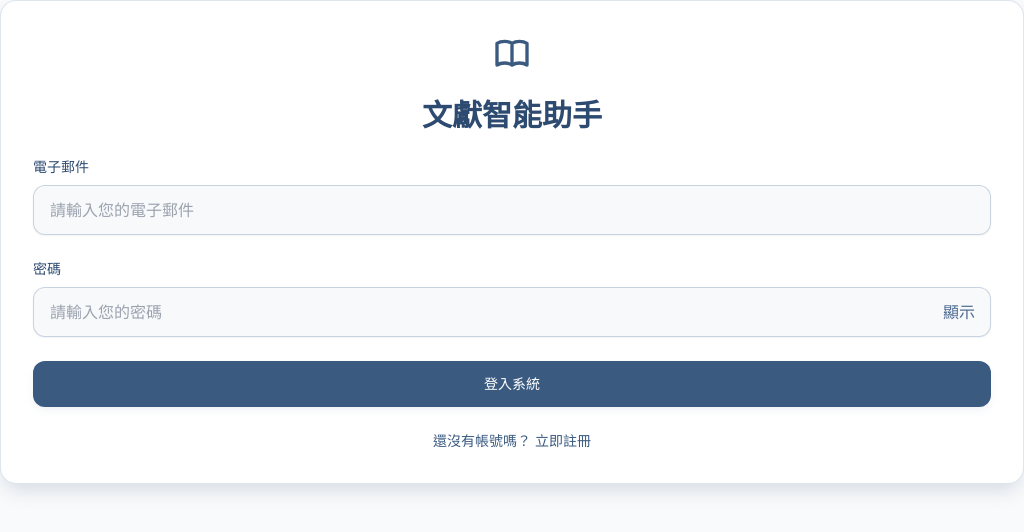
Test: LoginForm測試 › 應該在電子郵件格式無效時顯示錯誤
Note: 輸入無效的電子郵件
Step 1. Type "invalid-email" into the field with test id "login-email" → (512, 210), box 33,185 -> 991,235
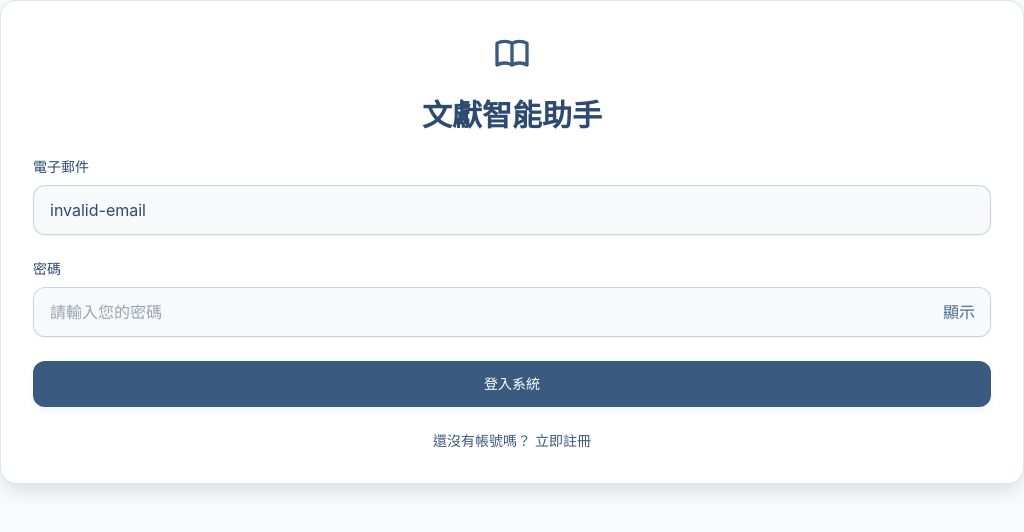
Step 2. Leave the field with test id "login-email", box 33,185 -> 991,235
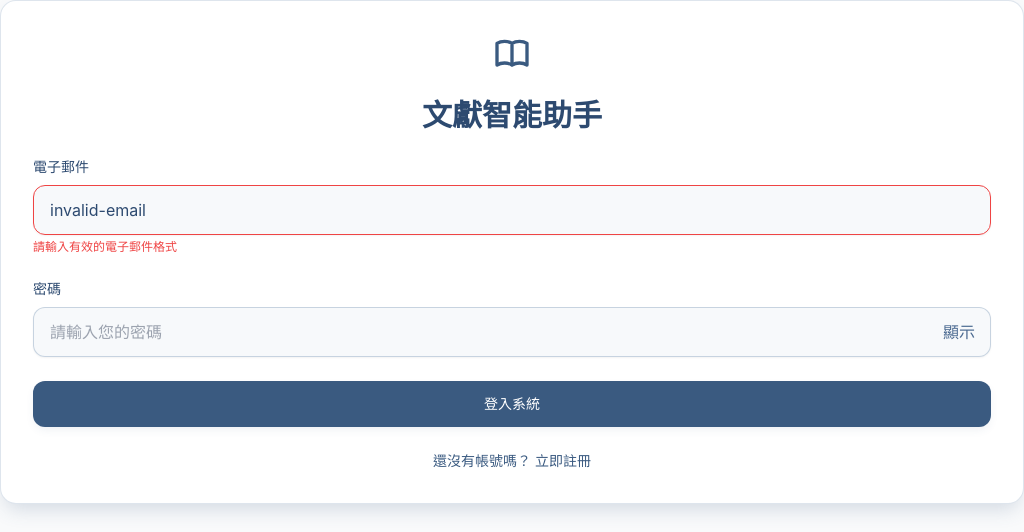
Check: the text "請輸入有效的電子郵件格式" is shown, box 33,239 -> 177,254
